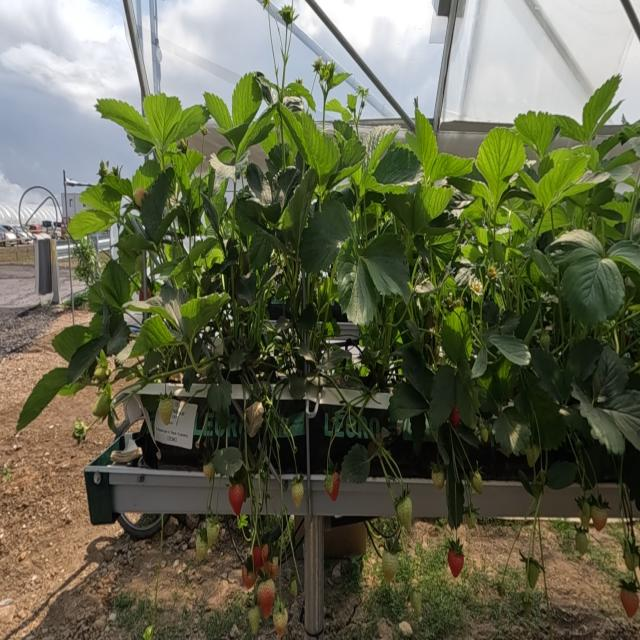Flowers: (468, 277, 483, 296)
Leaves: (546, 230, 623, 326), (285, 106, 340, 182), (300, 199, 351, 274), (520, 371, 566, 450), (476, 127, 524, 202), (573, 388, 623, 454), (363, 234, 410, 301), (17, 367, 66, 430), (537, 152, 588, 210), (282, 168, 317, 251), (337, 259, 376, 326), (96, 98, 152, 143), (582, 75, 620, 140), (140, 168, 174, 239), (144, 93, 182, 153), (604, 390, 640, 450), (181, 294, 228, 339), (494, 398, 531, 455), (236, 105, 275, 159), (412, 184, 452, 234), (372, 147, 423, 186), (130, 315, 174, 358), (67, 335, 107, 382), (514, 111, 555, 156), (428, 365, 455, 432), (145, 283, 188, 325), (401, 347, 434, 401), (593, 347, 627, 399), (329, 137, 365, 186), (98, 260, 131, 311), (361, 124, 403, 164), (455, 361, 479, 428), (79, 184, 121, 222), (441, 306, 469, 363), (232, 72, 261, 127), (389, 381, 427, 422), (416, 108, 437, 179), (568, 338, 603, 380), (68, 210, 116, 239), (489, 334, 530, 366), (52, 325, 87, 362), (172, 105, 205, 142), (171, 149, 204, 186), (532, 204, 569, 237), (430, 154, 475, 181), (341, 444, 370, 484), (565, 171, 610, 196), (208, 377, 231, 425), (204, 92, 232, 131), (235, 199, 265, 235), (515, 300, 541, 341), (531, 347, 559, 385), (119, 227, 150, 261), (247, 164, 272, 206), (132, 160, 160, 197), (608, 240, 640, 272), (283, 79, 315, 110), (249, 229, 273, 270), (386, 194, 414, 229), (209, 153, 236, 188), (107, 314, 130, 355), (102, 167, 133, 196), (552, 114, 584, 142), (428, 231, 456, 263), (546, 461, 577, 489), (212, 447, 242, 475), (277, 167, 300, 202), (531, 249, 556, 281), (604, 149, 640, 170), (596, 132, 622, 161), (448, 177, 487, 196), (322, 345, 351, 370), (201, 194, 219, 232), (235, 273, 255, 305), (589, 181, 614, 206), (326, 99, 352, 121), (155, 261, 183, 280), (462, 197, 484, 221), (472, 345, 487, 378), (297, 304, 315, 331), (335, 187, 356, 209), (500, 311, 519, 335), (609, 165, 633, 183), (289, 375, 306, 399), (262, 203, 281, 223), (461, 244, 481, 263), (490, 241, 504, 267), (217, 146, 236, 164), (414, 279, 435, 295), (272, 284, 290, 302), (229, 349, 244, 370), (275, 316, 291, 332), (299, 345, 314, 361), (615, 183, 634, 194)
Strawberries: (257, 580, 275, 618), (245, 402, 263, 435), (620, 588, 639, 618), (381, 550, 398, 583), (93, 389, 111, 419), (623, 538, 639, 571), (396, 496, 411, 531), (93, 358, 111, 383), (325, 472, 340, 501), (229, 484, 243, 515), (576, 497, 590, 528), (447, 551, 463, 576), (72, 419, 87, 445), (273, 608, 287, 635), (526, 558, 539, 587), (591, 508, 607, 531), (156, 400, 172, 423), (206, 520, 219, 547), (241, 566, 255, 589), (248, 606, 259, 634), (431, 464, 443, 488), (292, 482, 303, 507), (133, 187, 147, 206), (576, 531, 587, 555), (527, 445, 539, 467), (253, 546, 263, 570), (196, 536, 206, 560), (472, 471, 482, 494), (540, 331, 550, 350), (203, 462, 214, 479), (270, 558, 278, 578), (450, 411, 459, 427), (488, 264, 497, 277), (289, 580, 296, 596), (481, 427, 488, 442), (98, 351, 104, 360)
